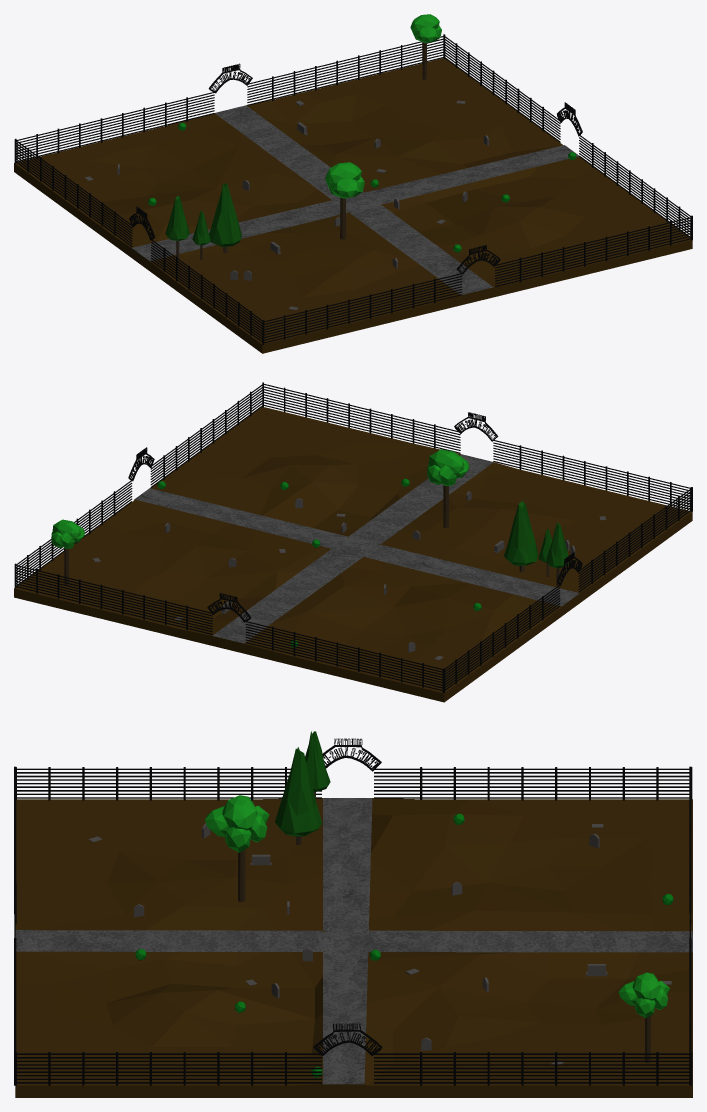
The model's file is Gourdtown Cemetery.glb.
3 renders of one model, top to bottom at view 1: azimuth 30°, elevation 25°; view 2: azimuth 150°, elevation 25°; view 3: azimuth 270°, elevation 25°, orthographic. The views are drawn at different scales.
Visible parts, largest first — view 1: Ground, Fence, Tree3, Tree1, Arches, Trad Headstone; view 2: Ground, Fence, Tree3, Tree1, Arches, Trad Headstone; view 3: Ground, Fence, Tree1, Tree3, Arches, Trad Headstone, Shrubs.
Boxes of the visible parts, left/top/right/bottom form: Ground: left=14, top=58, right=692, bottom=353; Fence: left=14, top=34, right=692, bottom=344; Tree3: left=165, top=183, right=241, bottom=259; Tree1: left=325, top=14, right=441, bottom=239; Arches: left=129, top=63, right=582, bottom=274; Trad Headstone: left=117, top=135, right=488, bottom=280; Ground: left=14, top=407, right=692, bottom=702; Fence: left=14, top=382, right=692, bottom=692; Tree3: left=504, top=501, right=568, bottom=585; Tree1: left=51, top=449, right=469, bottom=585; Arches: left=128, top=412, right=582, bottom=622; Trad Headstone: left=165, top=491, right=575, bottom=652; Ground: left=15, top=798, right=692, bottom=1097; Fence: left=14, top=766, right=692, bottom=1085; Tree1: left=204, top=795, right=669, bottom=1062; Tree3: left=275, top=731, right=330, bottom=844; Arches: left=15, top=738, right=691, bottom=1056; Trad Headstone: left=134, top=823, right=599, bottom=1050; Shrubs: left=135, top=813, right=673, bottom=1078.
Size of the model in its own units: 45.72 by 10.6 by 45.81.
Materials: 10 (1 with a texture image).
